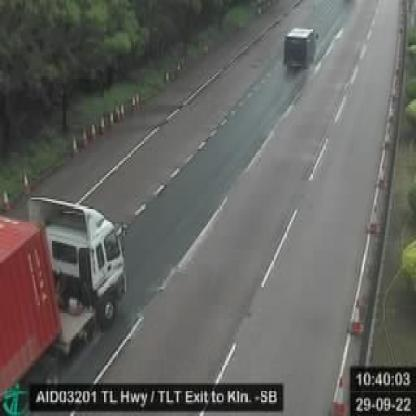Car: (277, 21, 325, 83)
Truck: (0, 185, 133, 404)
